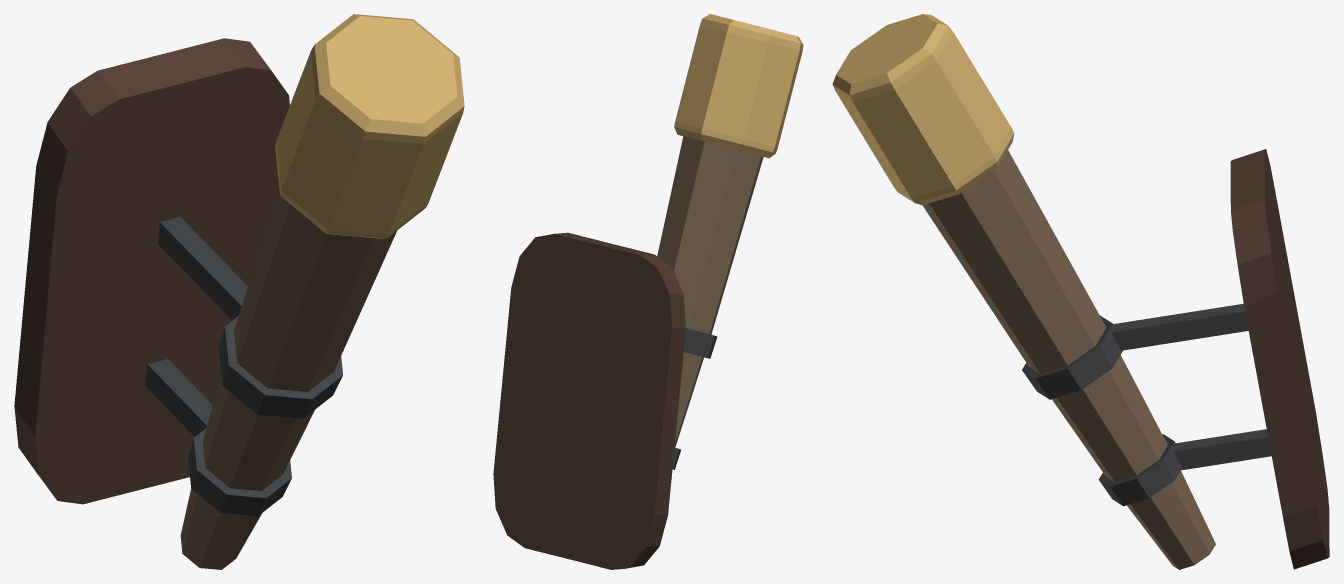
Rendered from tourch.fbx.
The picture shows the model from 3 angles, left to right: view 1: azimuth 30°, elevation 25°; view 2: azimuth 150°, elevation 25°; view 3: azimuth 270°, elevation 25°; orthographic projection. The views are drawn at different scales.
Parts seen in each view (by area): view 1: Tourch; view 2: Tourch; view 3: Tourch.
Boxes of the visible parts, left/top/right/bottom form: Tourch: left=14, top=14, right=464, bottom=569; Tourch: left=493, top=14, right=803, bottom=569; Tourch: left=832, top=14, right=1329, bottom=569.
Bounding box in the file's own units: 63.75 × 168 × 140.
